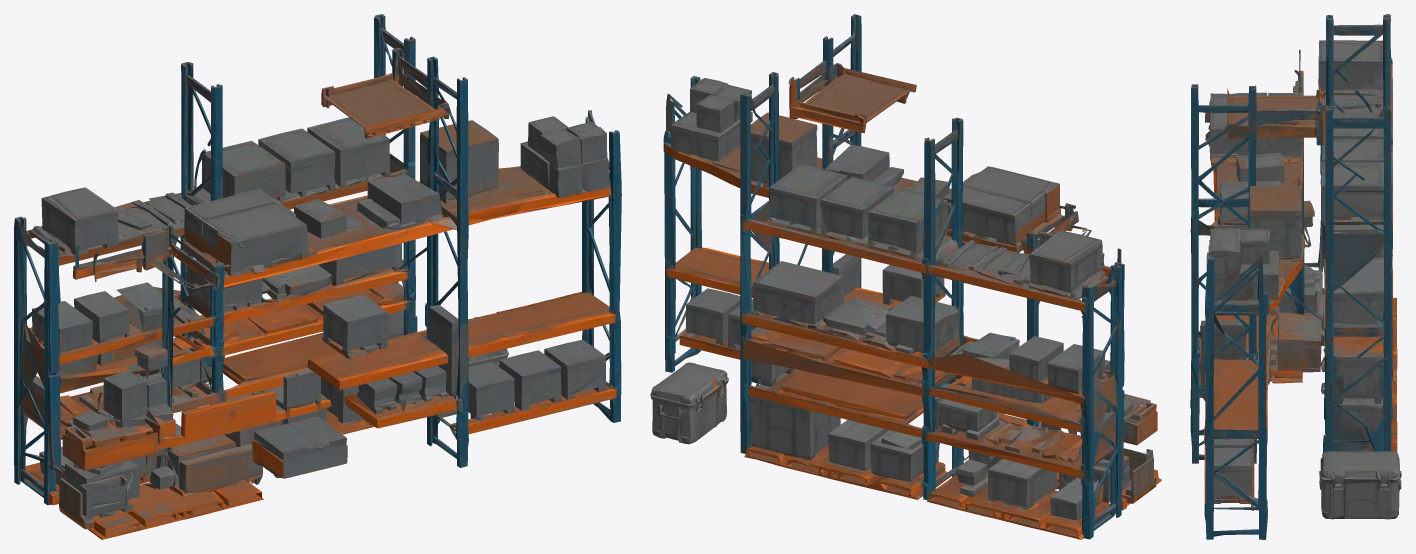
Rendered from docaShelf.glb.
The picture shows the model from 3 angles, left to right: view 1: azimuth 30°, elevation 25°; view 2: azimuth 150°, elevation 25°; view 3: azimuth 270°, elevation 25°; orthographic projection. The views are drawn at different scales.
Size of the model in its own units: 1.9 by 1.39 by 0.699.
Materials: 1 (1 with a texture image).
